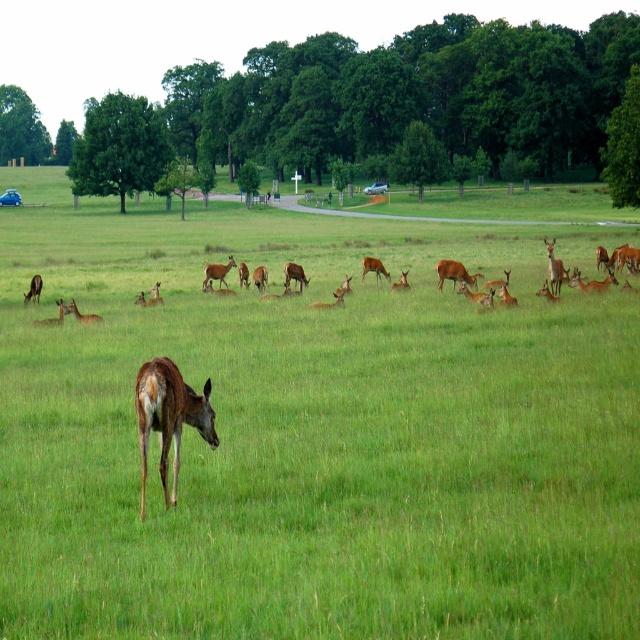Deer: (136, 358, 220, 522), (437, 257, 477, 295), (202, 257, 237, 290), (546, 239, 564, 296), (34, 299, 69, 325), (70, 299, 105, 325), (364, 257, 392, 288), (284, 263, 312, 287), (25, 276, 44, 308), (311, 291, 346, 308), (392, 270, 411, 290)
